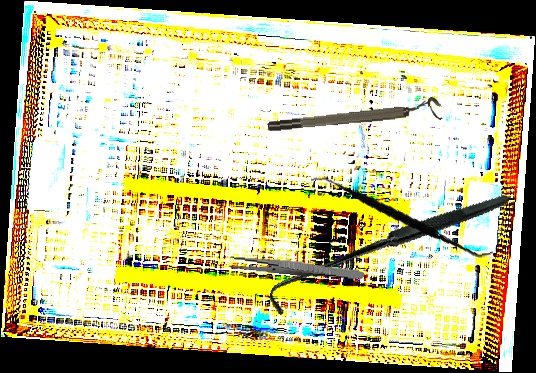Dressing Forceps: (228, 255, 365, 281)
Fixation Ring: (266, 96, 443, 135)
Hook Surgical: (265, 133, 510, 373)
Spatula Surgical: (310, 154, 494, 278)
